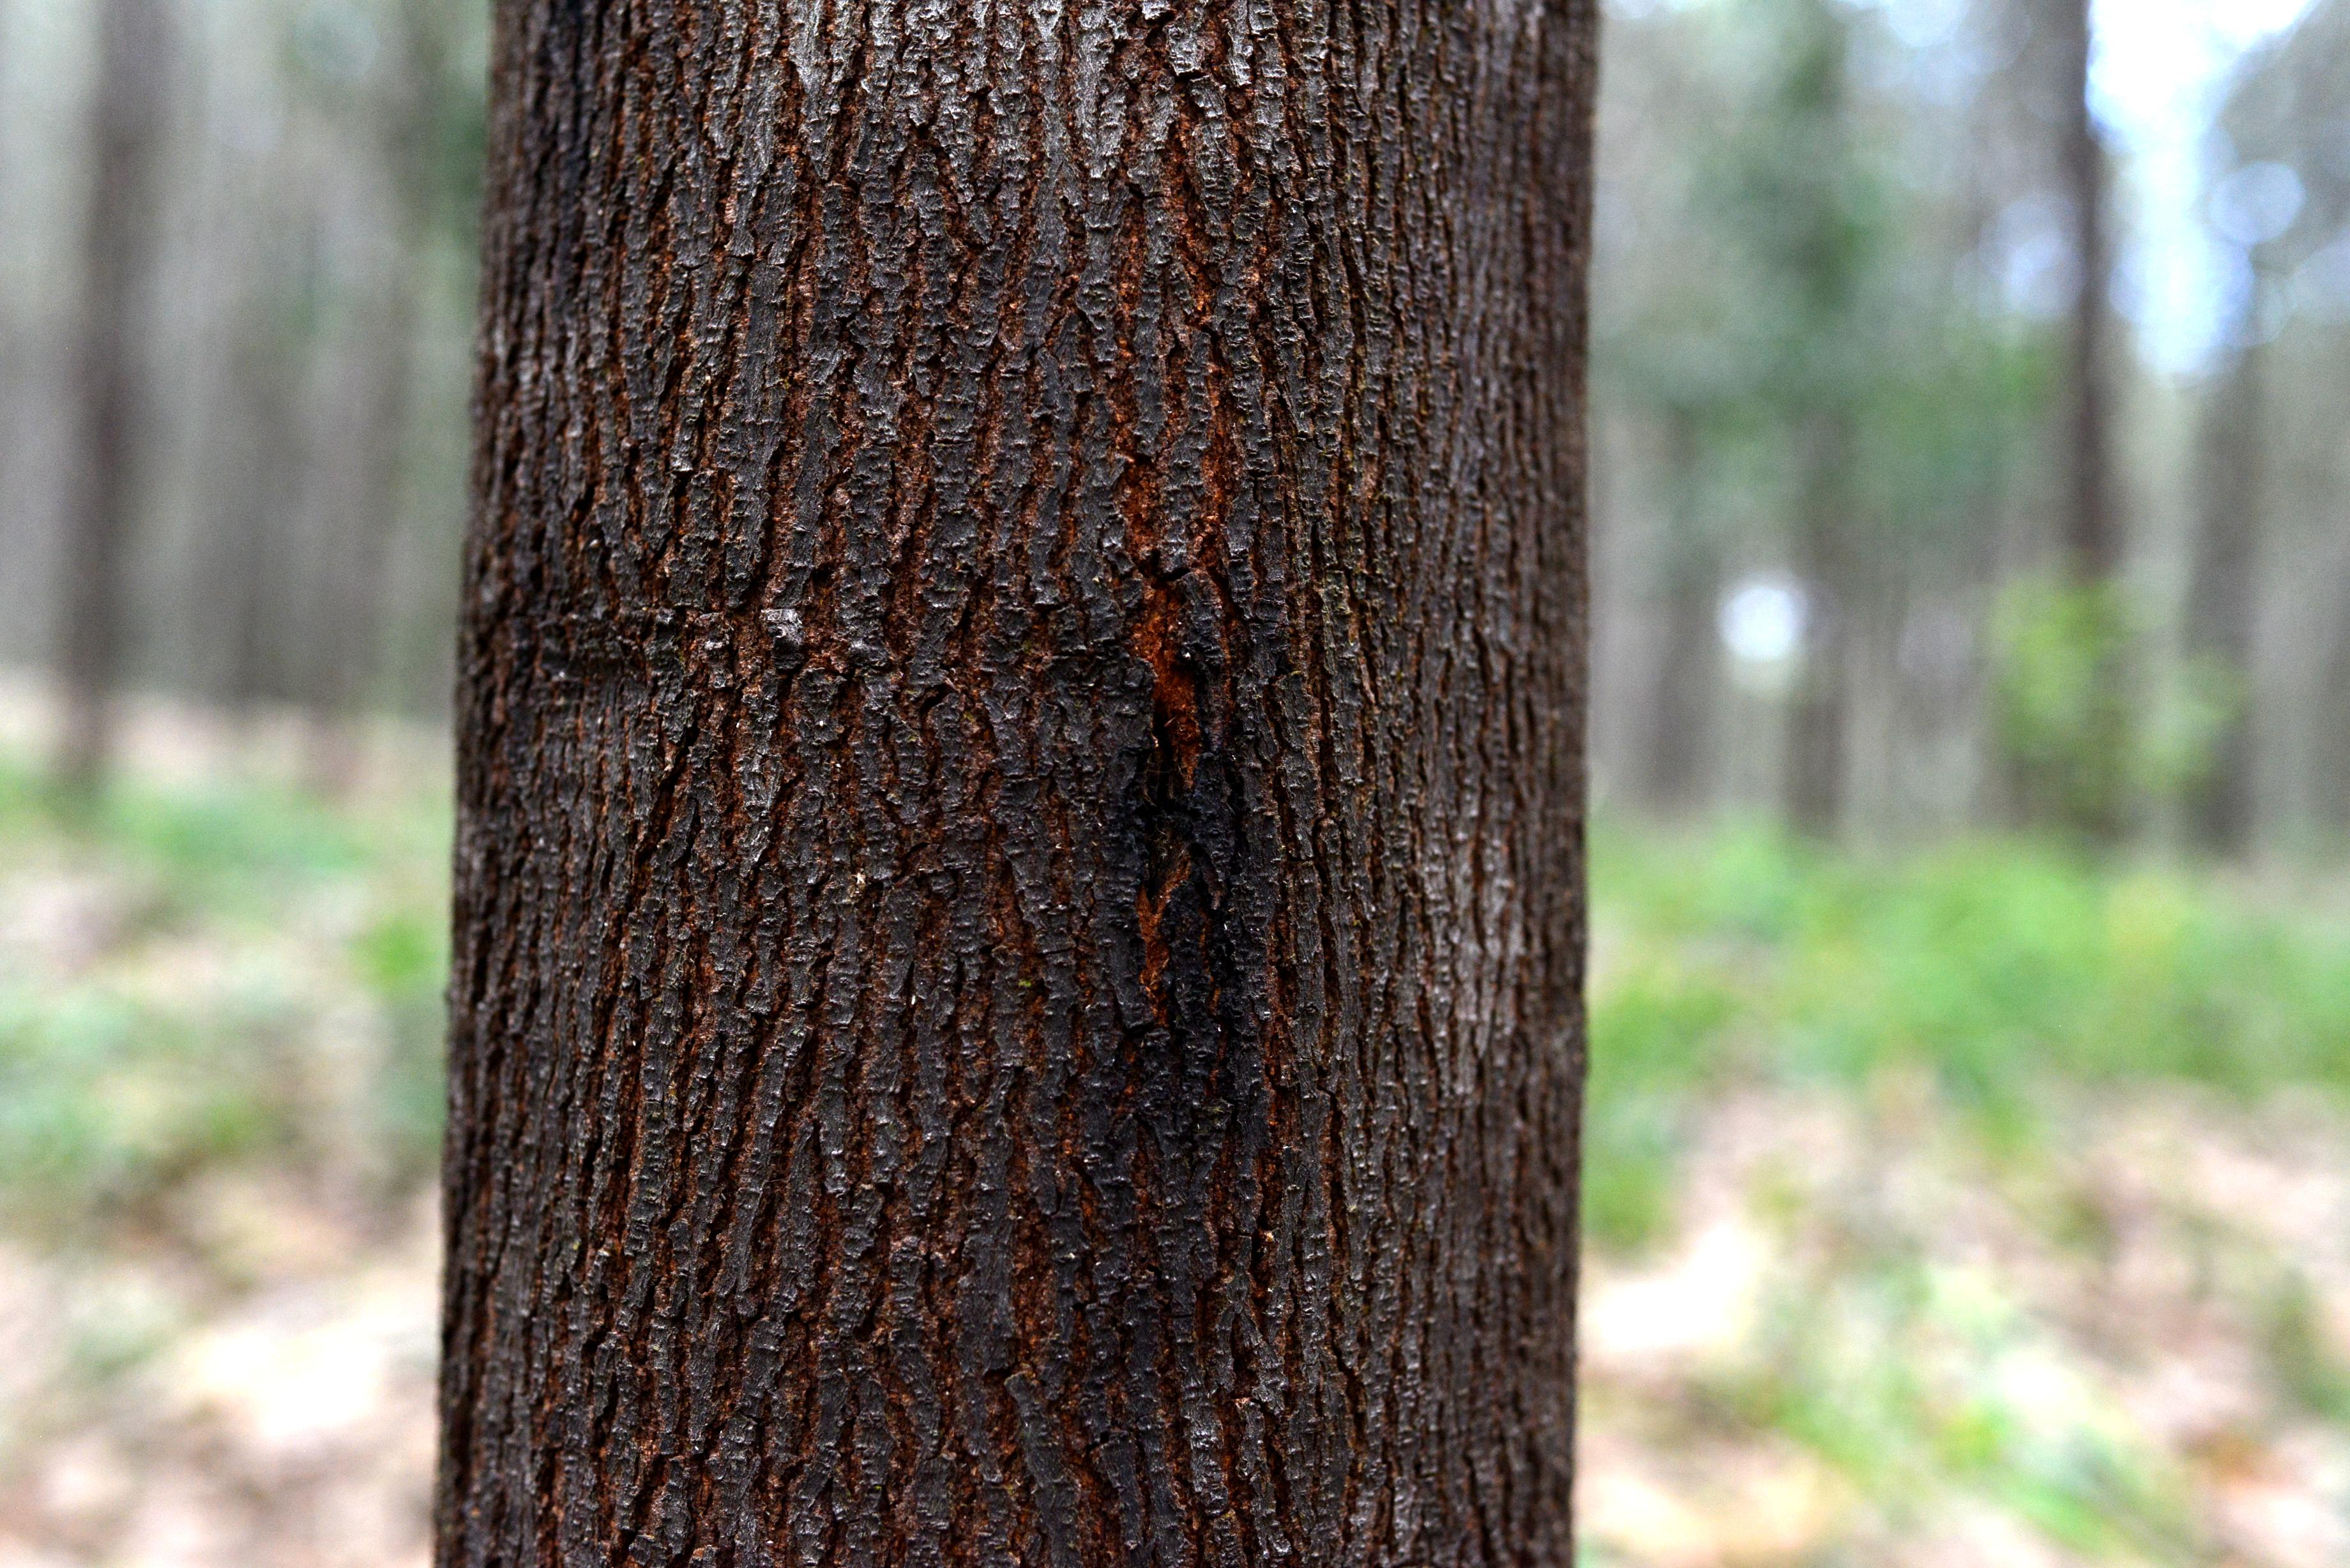Stem Borer: (1027, 560, 1311, 1375)
